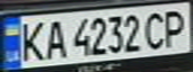2: (121, 11, 145, 53), (87, 14, 109, 56)
3: (106, 11, 127, 55)
4: (69, 15, 90, 58)
A: (39, 16, 69, 61)
C: (139, 8, 172, 51)
K: (15, 18, 48, 63)
P: (157, 6, 193, 49)
